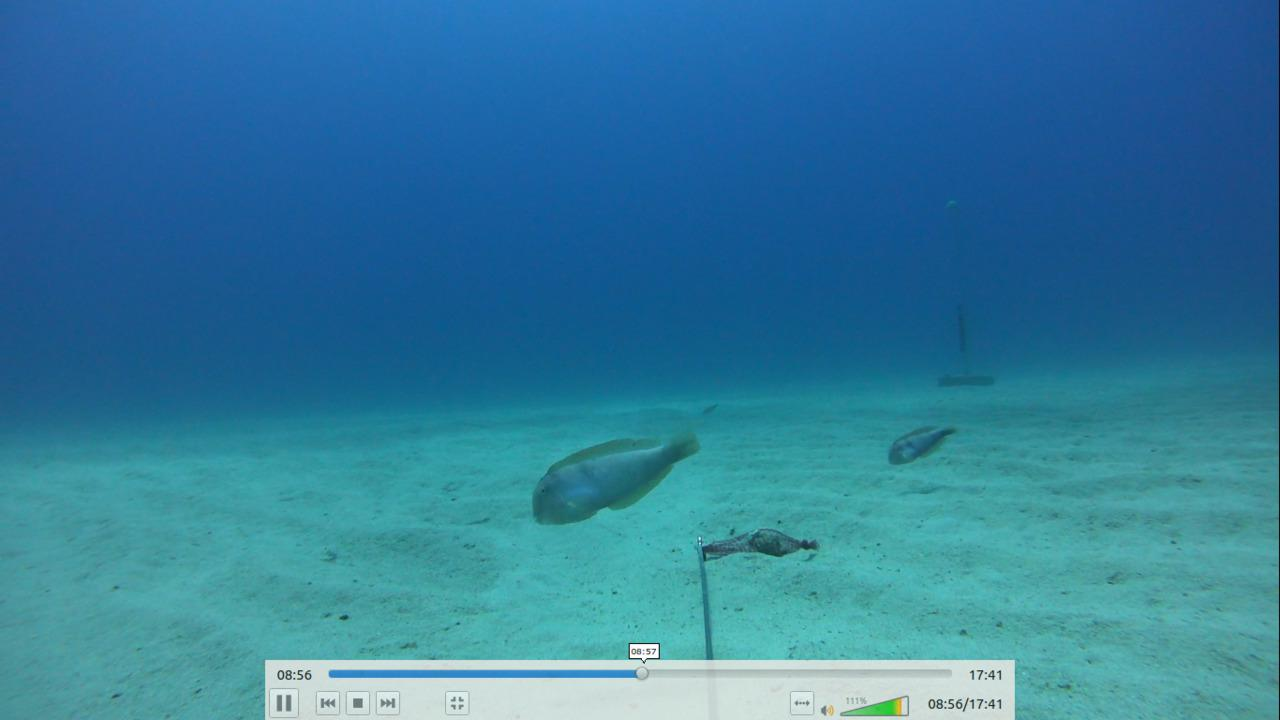raor: (525, 423, 712, 534), (875, 415, 960, 469)
